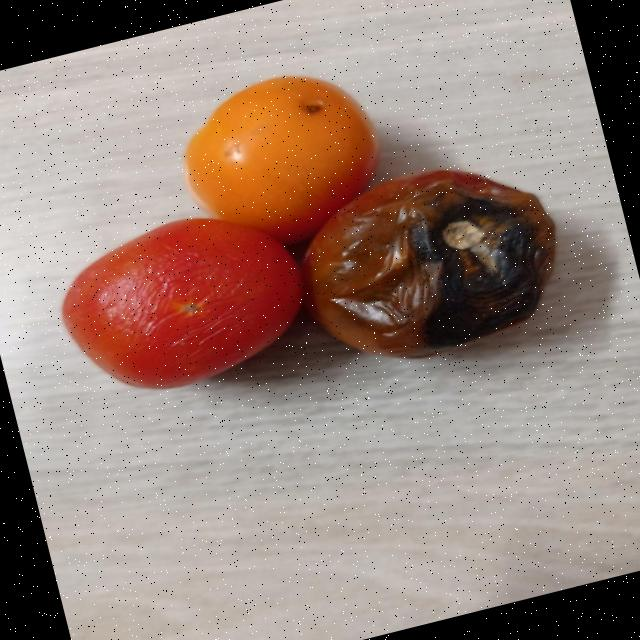Rotten: (283, 142, 575, 382)
